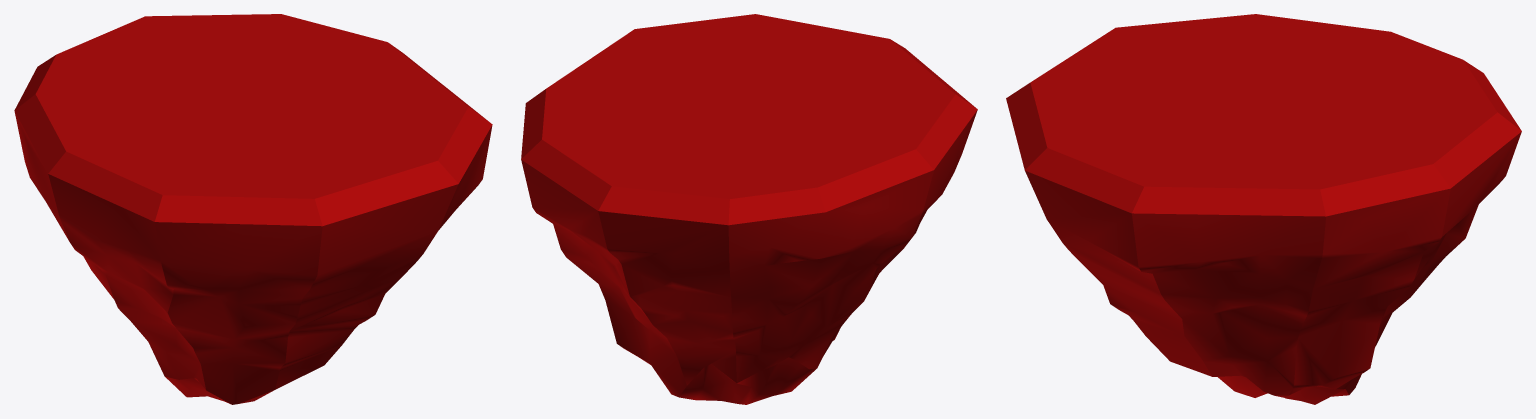
Rendered from Jump_Map_Tiles_7.fbx.
3 views of the same model, side by side, from view 1: azimuth 30°, elevation 25°; view 2: azimuth 150°, elevation 25°; view 3: azimuth 270°, elevation 25° (orthographic). The views are drawn at different scales.
Visible parts, largest first — view 1: Jump_Map_Tiles_7; view 2: Jump_Map_Tiles_7; view 3: Jump_Map_Tiles_7.
Boxes of the visible parts, box(x1,y1,x2,y2) form: Jump_Map_Tiles_7: box(14, 14, 492, 404); Jump_Map_Tiles_7: box(521, 14, 977, 404); Jump_Map_Tiles_7: box(1006, 14, 1521, 404).
Bounding box in the file's own units: 7.36 × 5.23 × 8.28.
